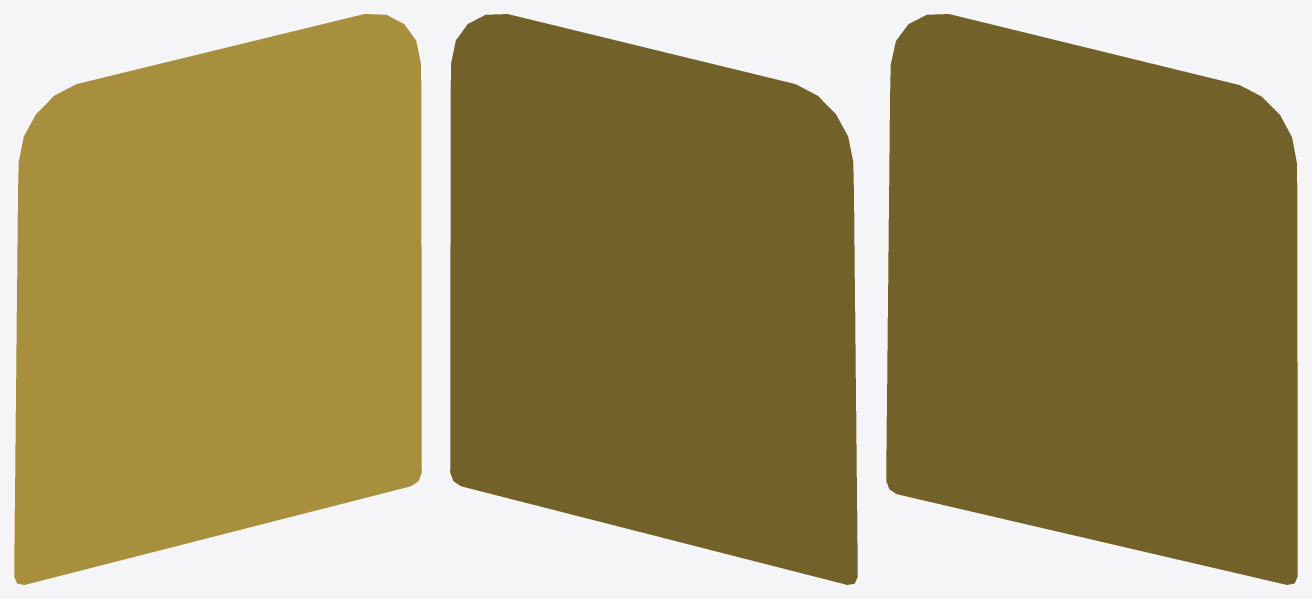
The model's file is Phone-3 Screen.fbx.
3 renders of one model, left to right at view 1: azimuth 30°, elevation 25°; view 2: azimuth 150°, elevation 25°; view 3: azimuth 330°, elevation 25°, orthographic.
Parts seen in each view (by area): view 1: Phone-3 Screen; view 2: Phone-3 Screen; view 3: Phone-3 Screen.
Part boxes in pixels (x1,y1,x2,y2): Phone-3 Screen: (14,14,421,584); Phone-3 Screen: (450,14,857,584); Phone-3 Screen: (886,14,1297,584).
Size of the model in its own units: 0.611 by 0.6992 by 3.06e-07.
